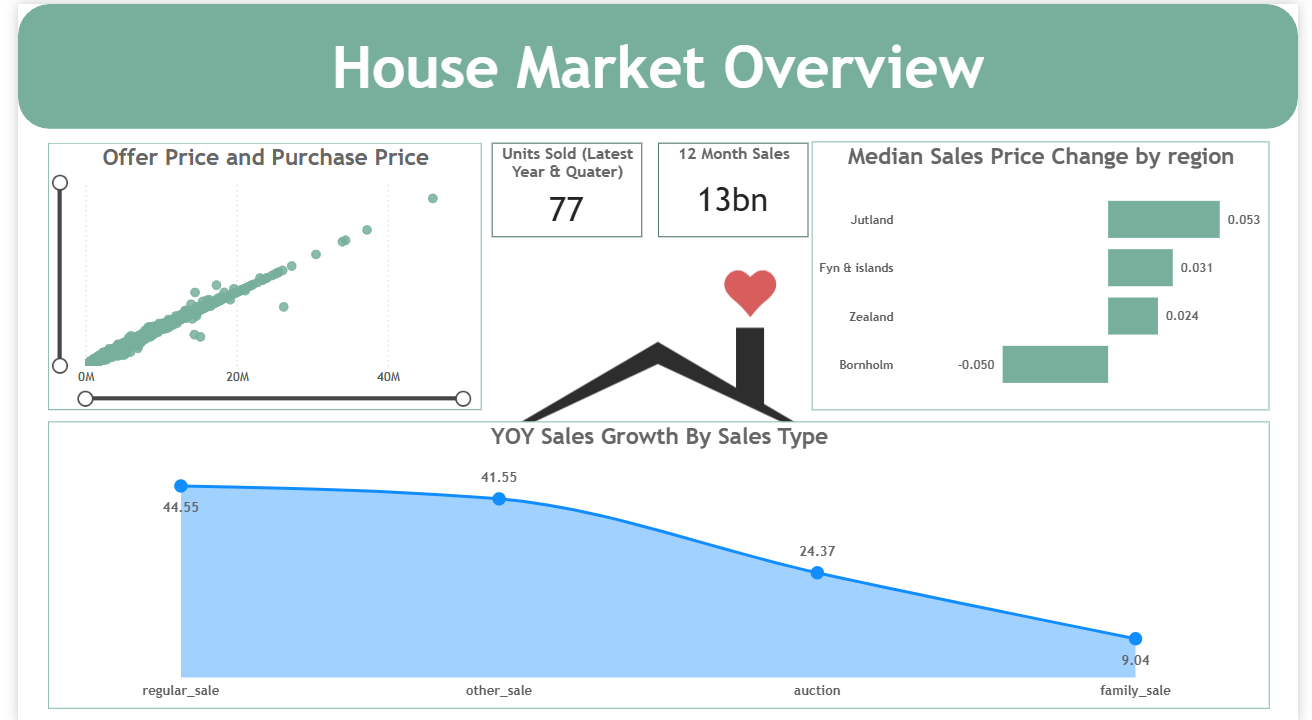

This screenshot's page, from the dashboard's own definition file:
{"tool":"powerbi","page":{"name":"House Market Overview","canvas":[1280,720],"ordinal":0},"visuals":[{"type":"shape","box":[0,0,1280,125],"z":0},{"type":"lineChart","title":"YOY Sales Growth By Sales Type","fields":{"Y":["Housing Dataset.YOY Sales Growth"],"Category":["Housing Dataset.sales_type"]},"box":[30,417.5,1221.2,287.5],"z":1000},{"type":"scatterChart","title":"Offer Price and Purchase Price","fields":{"X":["Housing Dataset.Offer Price"],"Y":["Housing Dataset.purchase_price"]},"box":[30,138.8,433.8,267.5],"z":2000},{"type":"barChart","fields":{"Y":["Housing Dataset.Median Sales Price Change"],"Category":["Housing Dataset.region"]},"box":[793.8,137.5,457.5,268.8],"z":3000},{"type":"card","title":"Units Sold (Latest Year & Quater)","fields":{"Values":["Housing Dataset.Units Sold in latest year & quater"]},"box":[474.3,138.6,150,94.3],"z":4000},{"type":"card","title":"12 Month Sales ","fields":{"Values":["Housing Dataset.Last 12 Month Sales"]},"box":[640,138.6,150,94.3],"z":5000}]}

Visuals, with their boxes in screenshot pixels (x1, y1, x2, y2), scaled from the page's 1280x720 canvas onto the 1312x720 screenshot:
shape: Rect(0, 0, 1311, 125)
"YOY Sales Growth By Sales Type" lineChart: Rect(31, 418, 1282, 705)
"Offer Price and Purchase Price" scatterChart: Rect(31, 139, 475, 406)
barChart - Housing Dataset.Median Sales Price Change x Housing Dataset.region: Rect(814, 138, 1283, 406)
"Units Sold (Latest Year & Quater)" card: Rect(486, 139, 640, 233)
"12 Month Sales " card: Rect(656, 139, 810, 233)
